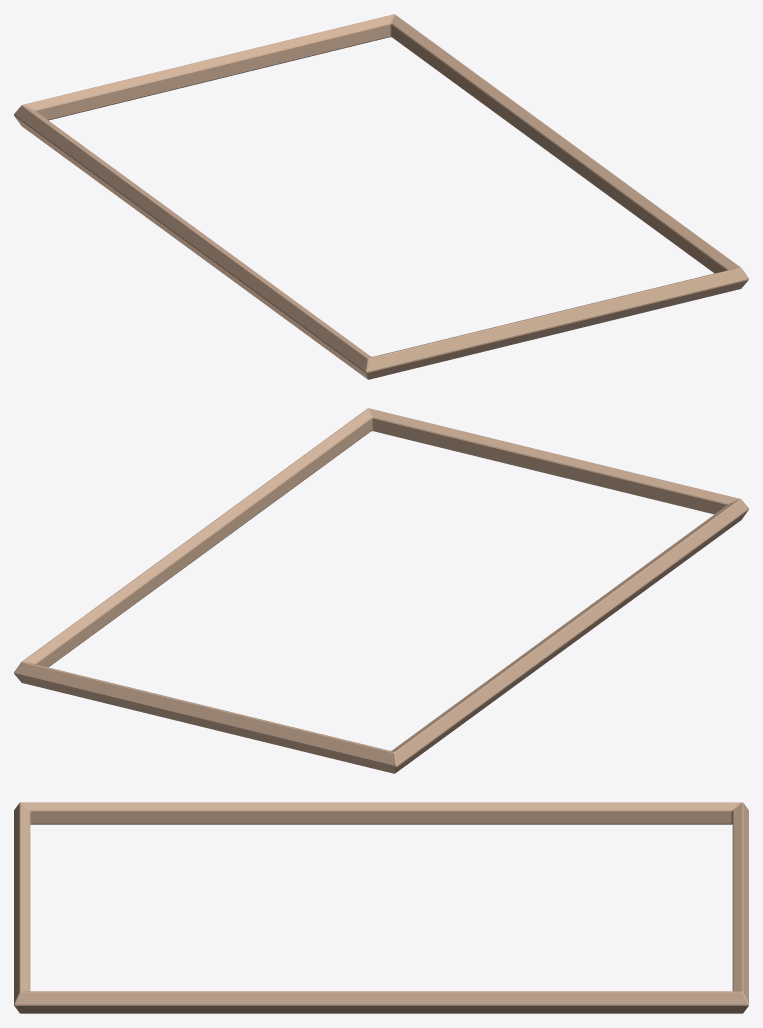
The model's file is lobby-frame.baked.fbx.
3 renders of one model, top to bottom at view 1: azimuth 30°, elevation 25°; view 2: azimuth 150°, elevation 25°; view 3: azimuth 270°, elevation 25°, orthographic. The views are drawn at different scales.
Parts seen in each view (by area): view 1: Torus; view 2: Torus; view 3: Torus.
Boxes of the visible parts, x1,y1,x2,y2 form: Torus: [14, 14, 748, 379]; Torus: [14, 408, 748, 773]; Torus: [14, 802, 748, 1013].
Size of the model in its own units: 175 by 9.26 by 279.
